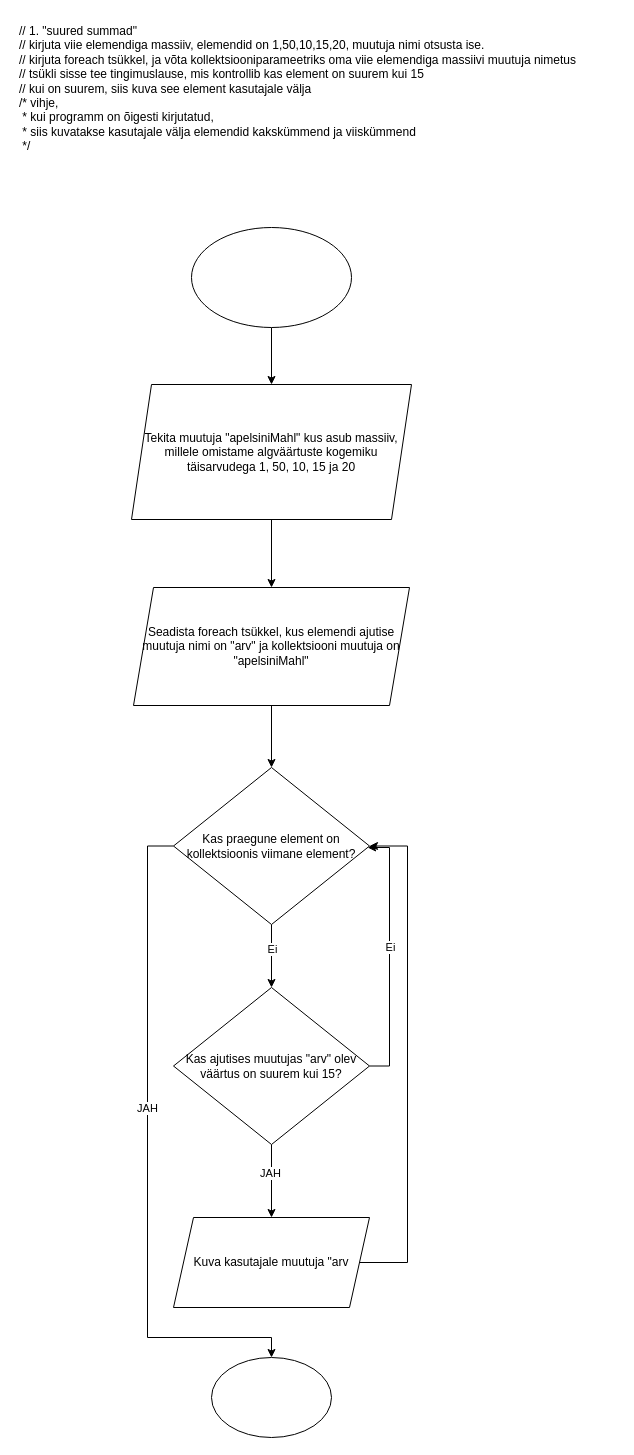
The diagram is 634 pixels wide and 1455 high, and some of its shapes have lost their labels. The centre of each missing label's shape, as x and y in pixels:
Algus: the point at 271,277
Lõpp: the point at 271,1397
